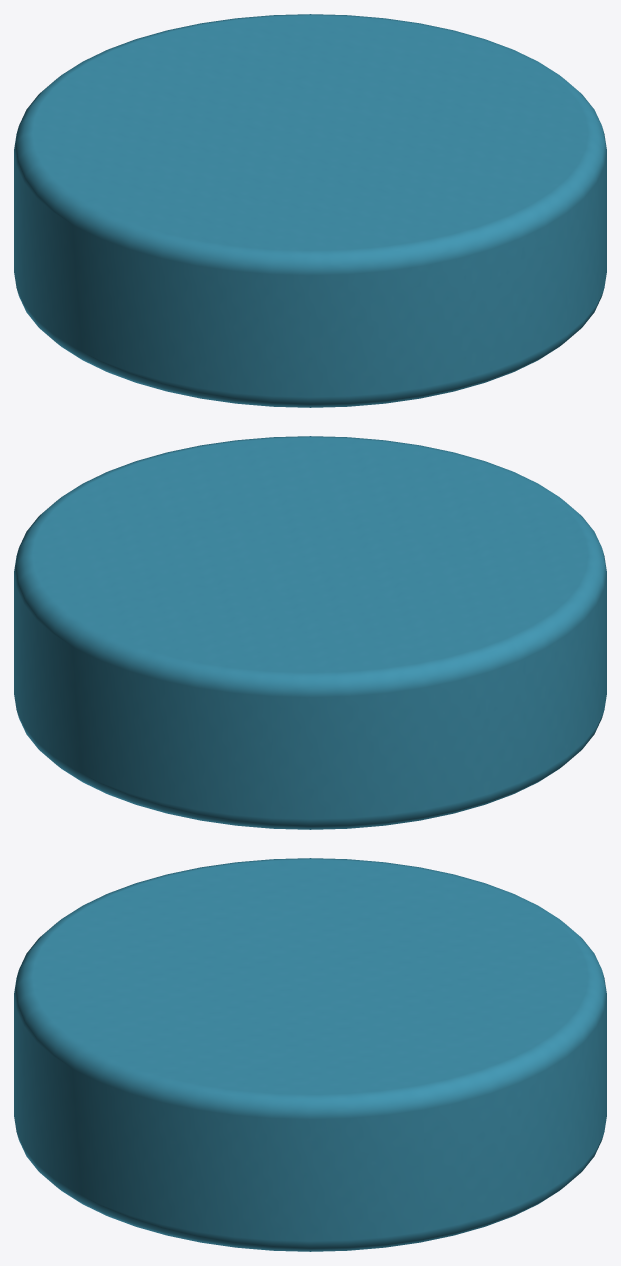
3 views of the same model, one above another, from view 1: azimuth 30°, elevation 25°; view 2: azimuth 150°, elevation 25°; view 3: azimuth 270°, elevation 25° (orthographic).
Parts seen in each view (by area): view 1: SingleShapeBody; view 2: SingleShapeBody; view 3: SingleShapeBody.
Part boxes in pixels (bbox=[...]): SingleShapeBody: bbox=[14, 14, 606, 407]; SingleShapeBody: bbox=[14, 436, 606, 829]; SingleShapeBody: bbox=[14, 858, 606, 1251].
Size of the model in its own units: 0.76 by 0.22 by 0.76.
1 material, 1 textured.
